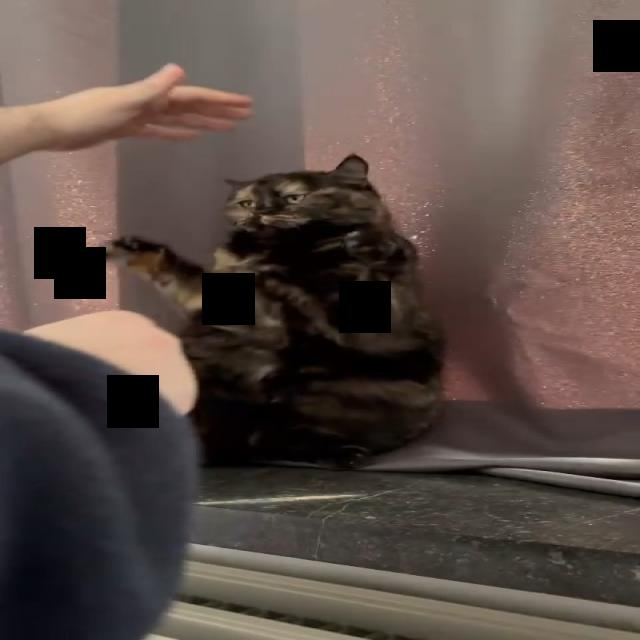authorized: (95, 152, 448, 469)
